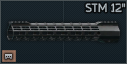AR-15 STM 12 inch M-LOK handguard: (0, 0, 127, 64)
